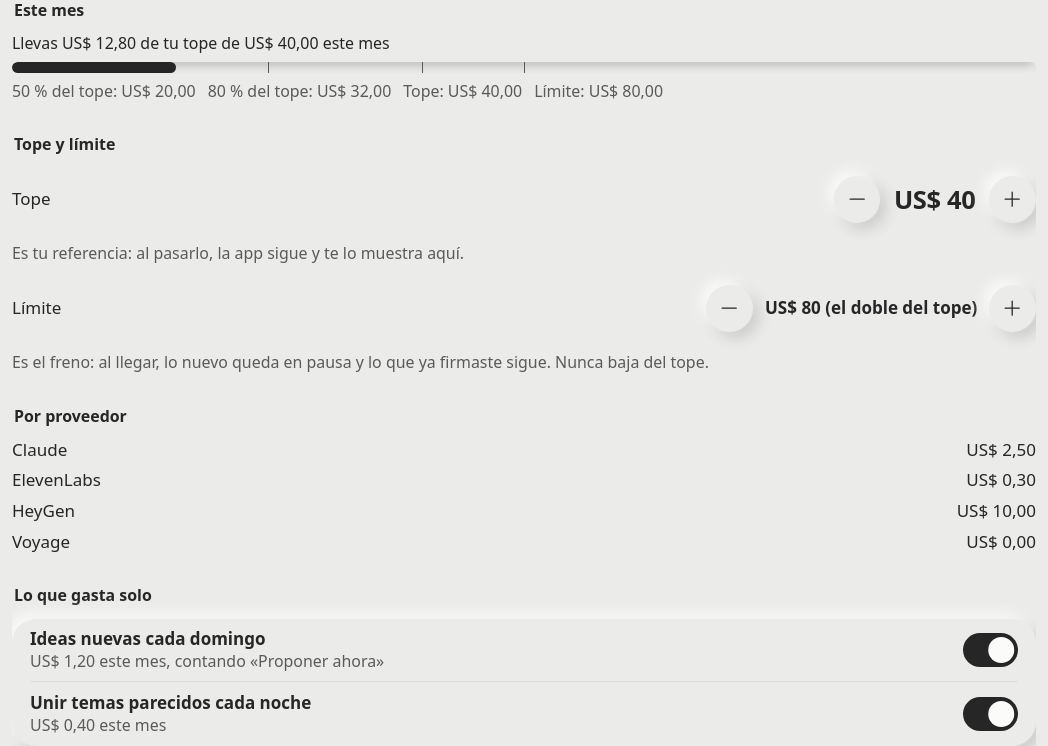
it: PantallaDePresupuesto › shows what the database kept when an older switch save succeeds after a newer one failed
Click the switch named "Ideas nuevas cada domingo" in the row of "Ideas nuevas cada domingo" at (990, 650), box x1=963 y1=633 x2=1018 y2=667
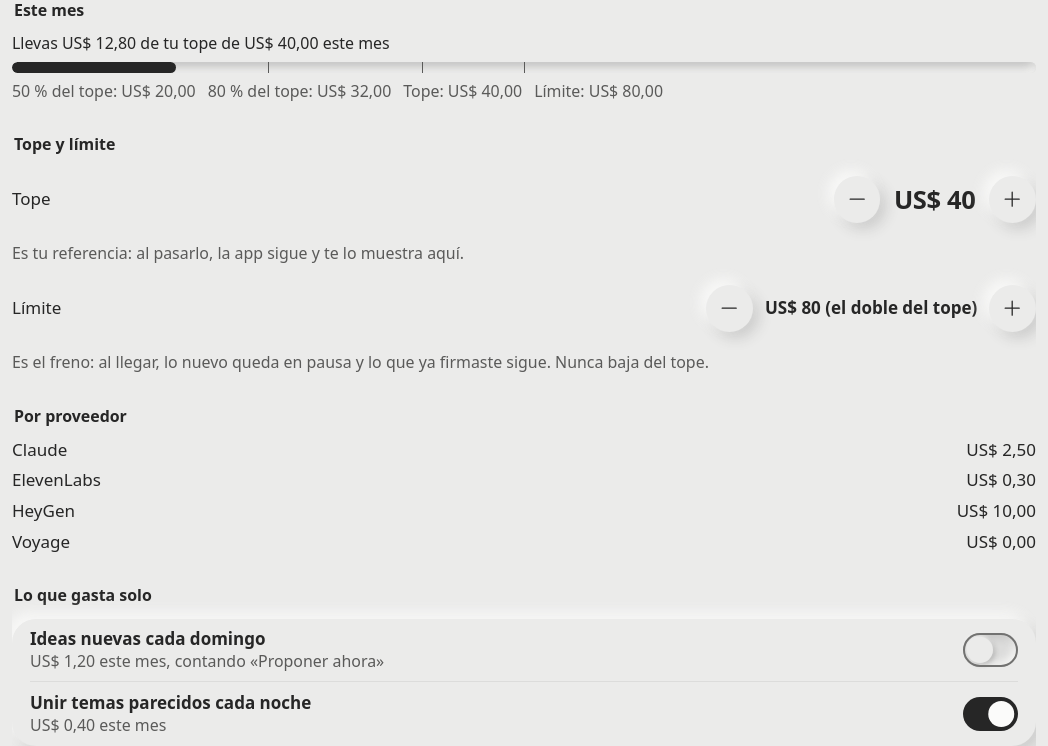
Click the switch named "Ideas nuevas cada domingo" in the row of "Ideas nuevas cada domingo" at (990, 650), box x1=963 y1=633 x2=1018 y2=667
(page scrolled)
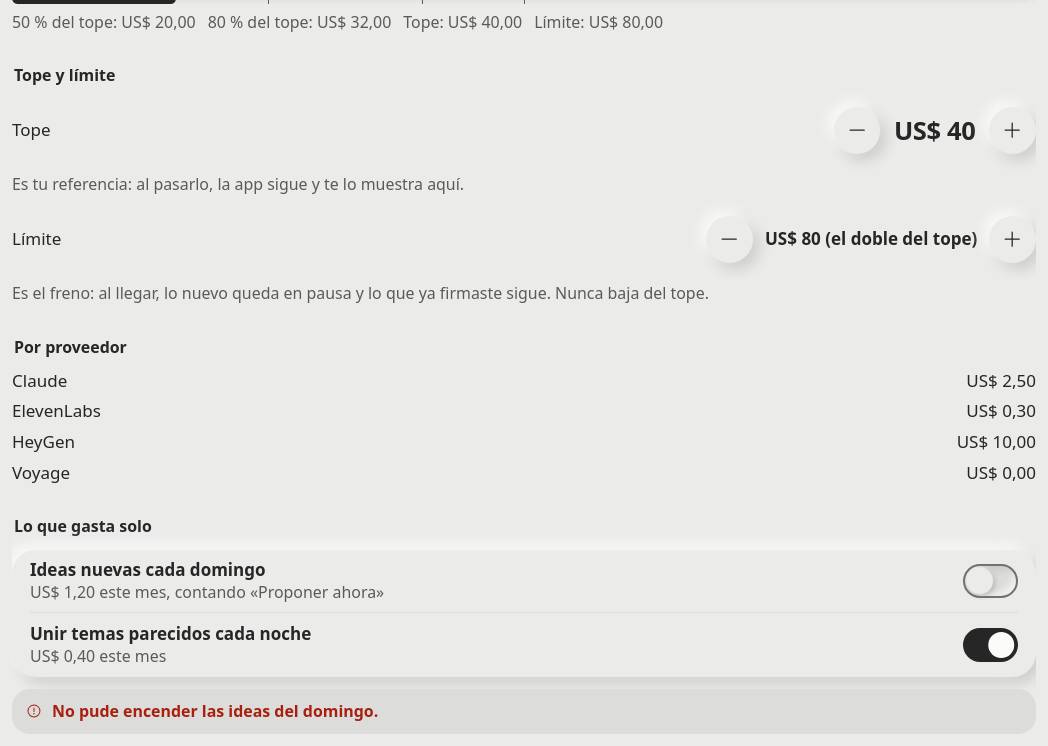
Result: the text "No pude encender las ideas del domingo." is shown at x1=52 y1=700 x2=378 y2=722
